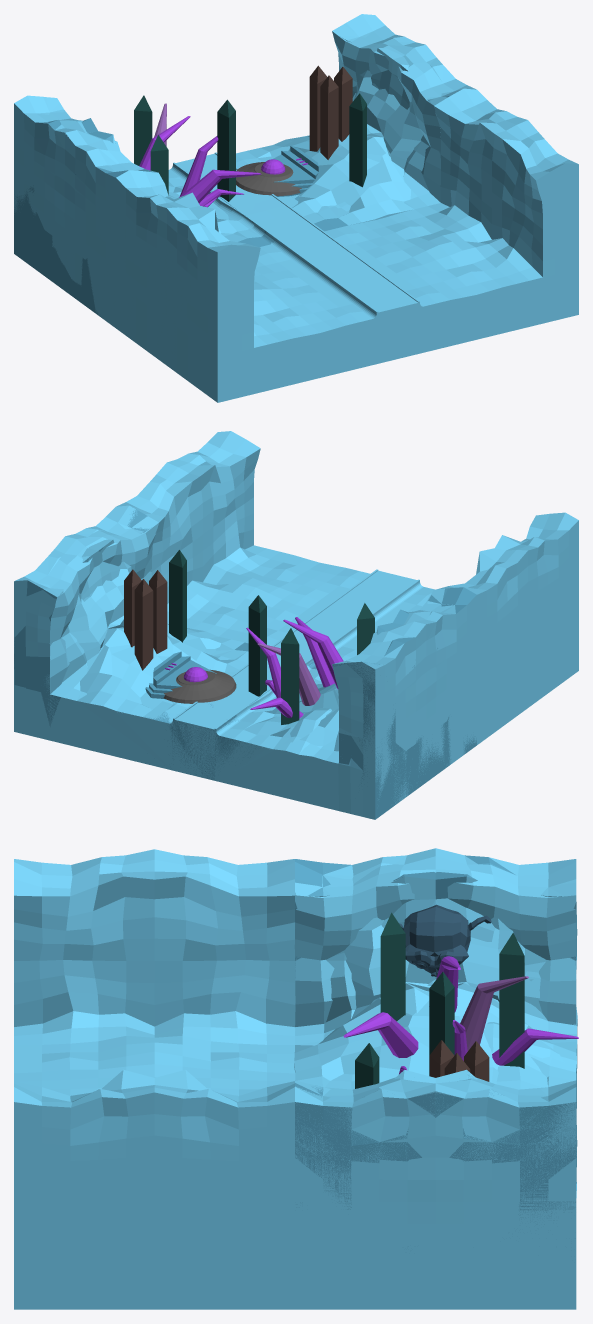
File: level_L6.fbx
The picture shows the model from 3 angles, top to bottom: view 1: azimuth 30°, elevation 25°; view 2: azimuth 150°, elevation 25°; view 3: azimuth 270°, elevation 25°; orthographic projection. The views are drawn at different scales.
Visible parts, largest first — view 1: Cube.007, Level6, Level5, Level7, Level3, Level4, Level1.001; view 2: Cube.007, Level6, Level7, Level5, Level1.001, Level3, Level4; view 3: Cube.007, Level7, Level6, Level3, Level5, Level1.001, Level4.
Part boxes in pixels (x1,y1,x2,y2): Cube.007: (116, 88, 578, 402); Level6: (27, 14, 462, 327); Level5: (63, 40, 427, 238); Level7: (14, 14, 476, 244); Level3: (34, 37, 441, 259); Level4: (14, 28, 440, 242); Level1.001: (14, 40, 449, 326); Cube.007: (116, 431, 578, 744); Level6: (28, 506, 476, 819); Level7: (14, 505, 456, 781); Level5: (63, 532, 427, 780); Level1.001: (14, 509, 476, 819); Level3: (50, 523, 476, 770); Level4: (44, 528, 447, 807); Cube.007: (14, 849, 294, 1309); Level7: (294, 851, 577, 1309); Level6: (295, 855, 577, 1309); Level3: (295, 848, 577, 1234); Level5: (294, 896, 578, 1197); Level1.001: (295, 855, 576, 1246); Level4: (295, 859, 576, 1169).
Size of the model in its own units: 4925 by 2058 by 4823.
